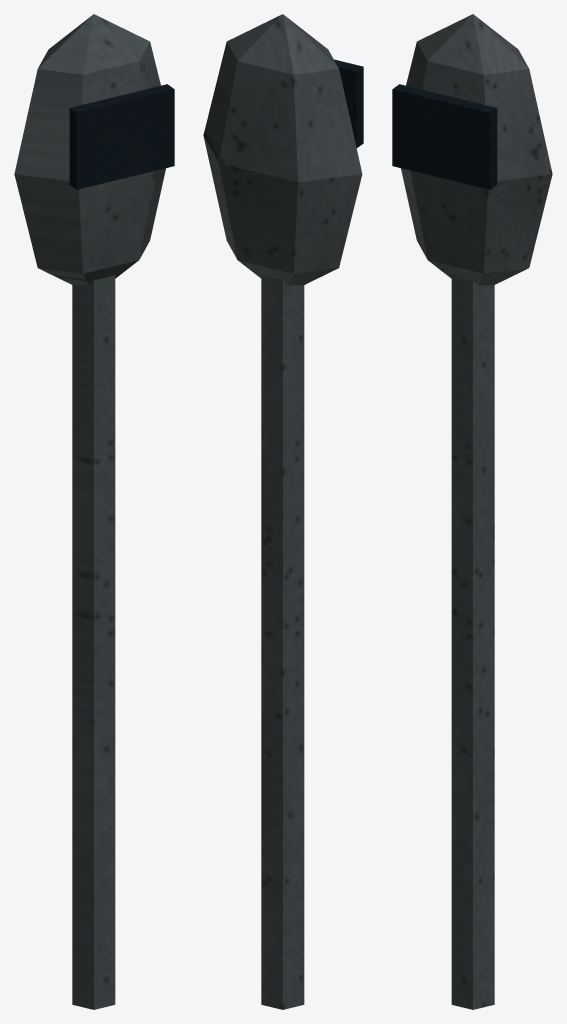
File: PROP-52D0386E0603_lod2.glb
The picture shows the model from 3 angles, left to right: view 1: azimuth 30°, elevation 25°; view 2: azimuth 150°, elevation 25°; view 3: azimuth 330°, elevation 25°; orthographic projection.
Visible parts, largest first — view 1: meter_post.001, meter_head.001, meter_display.001; view 2: meter_head.001, meter_post.001, meter_display.001; view 3: meter_post.001, meter_head.001, meter_display.001.
Boxes of the visible parts, x1,y1,x2,y2 form: meter_post.001: [72, 275, 115, 1009]; meter_head.001: [14, 14, 165, 285]; meter_display.001: [69, 84, 174, 189]; meter_head.001: [203, 14, 362, 285]; meter_post.001: [261, 275, 304, 1009]; meter_display.001: [334, 59, 363, 147]; meter_post.001: [451, 275, 494, 1009]; meter_head.001: [401, 14, 552, 285]; meter_display.001: [392, 84, 497, 189].
Bounding box in the file's own units: 0.26 × 1.54 × 0.1593.
2 materials, 2 textured.
